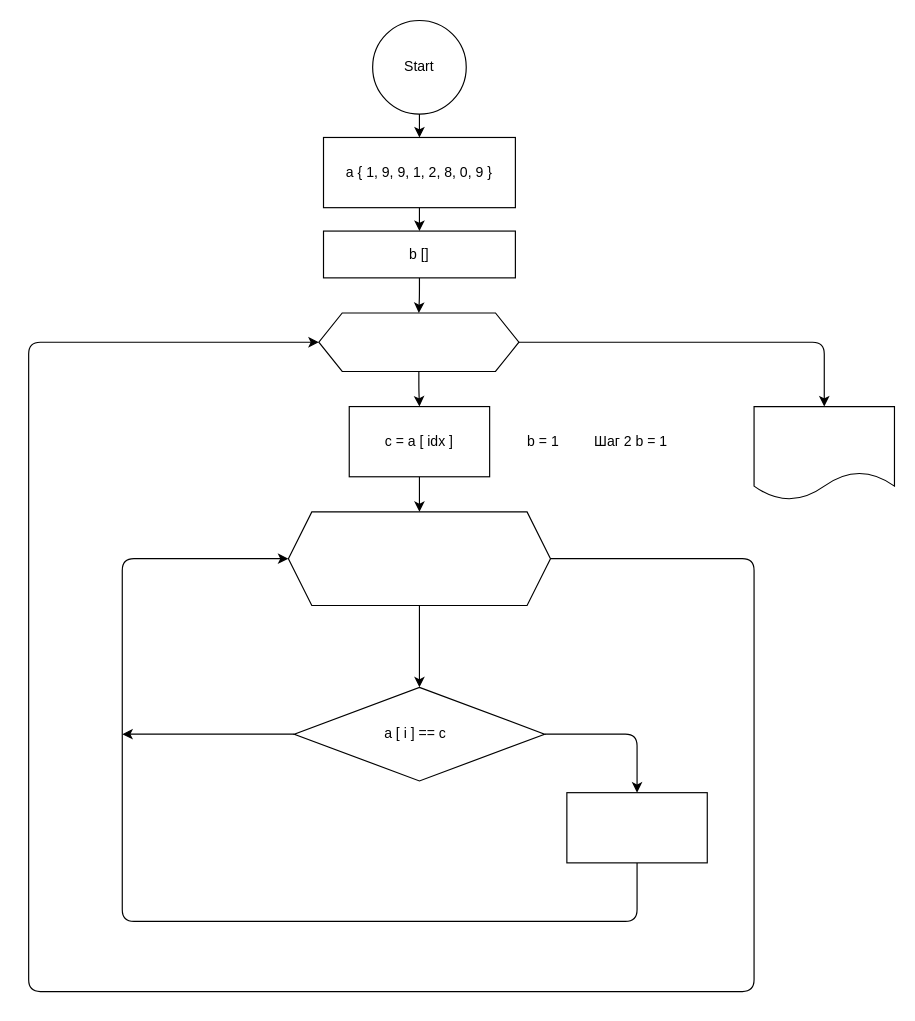
This 915x1021 diagram has some shape labels left out. The shapes that lost their labels are listed below. From the top down, each one's centre as x and y in pixels, then its label:
At (x=418, y=341): "idx = 0; idx < a.size; idx++".
At (x=418, y=558): "i = 0; i < a.size; i++".
At (x=636, y=827): "b [idx] + 1".
